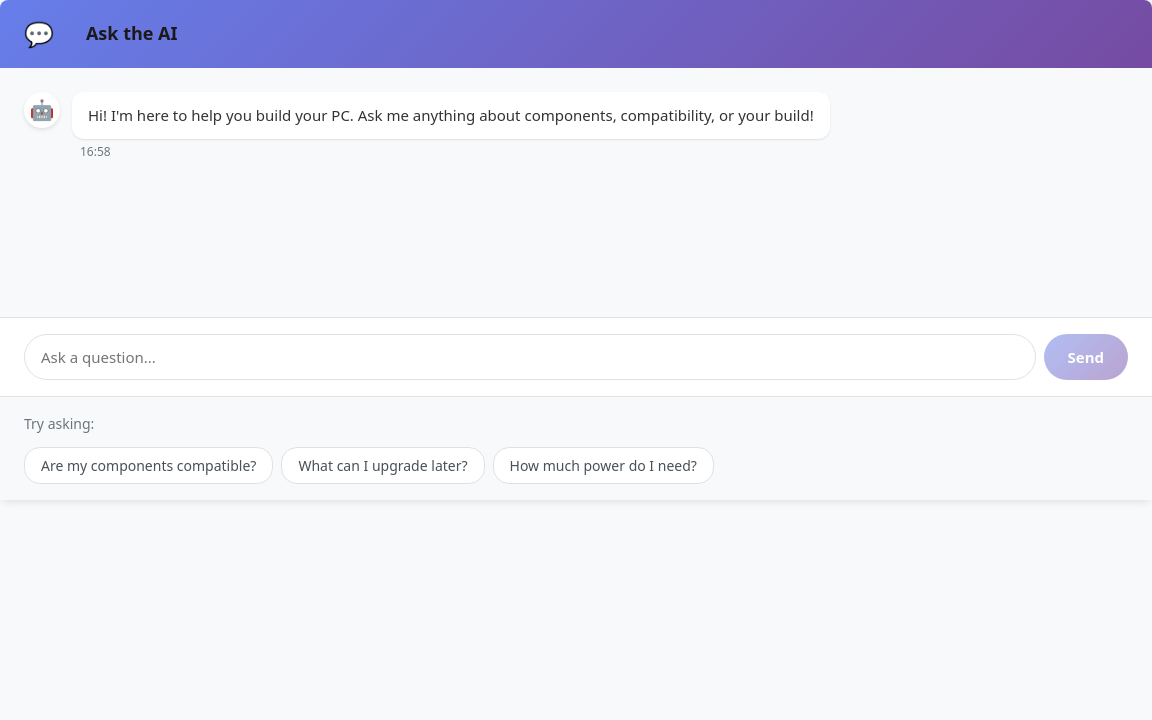
ConversationalChat › handles user query submission
The image size is (1152, 720).
Type "Test query" into the field with placeholder "Ask a question...".
click(530, 357); type("Test query")  # box [24,334,1036,380]
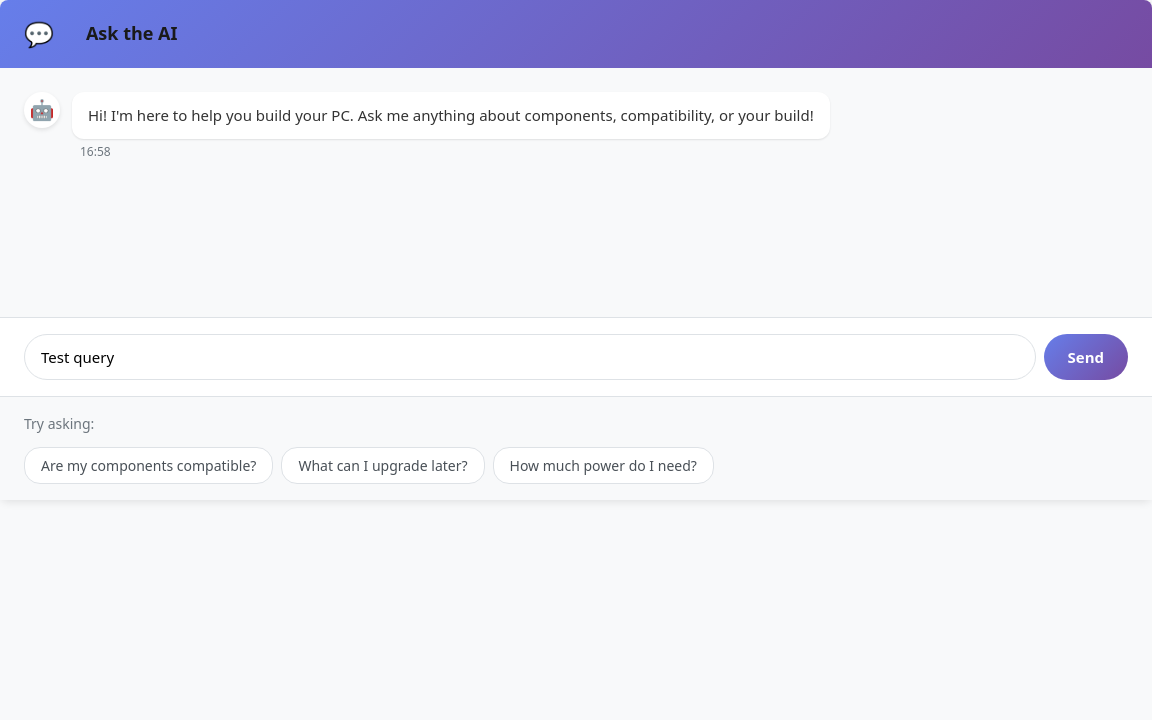
Click the button "Send".
click(1086, 357)  # box [1044,334,1128,380]
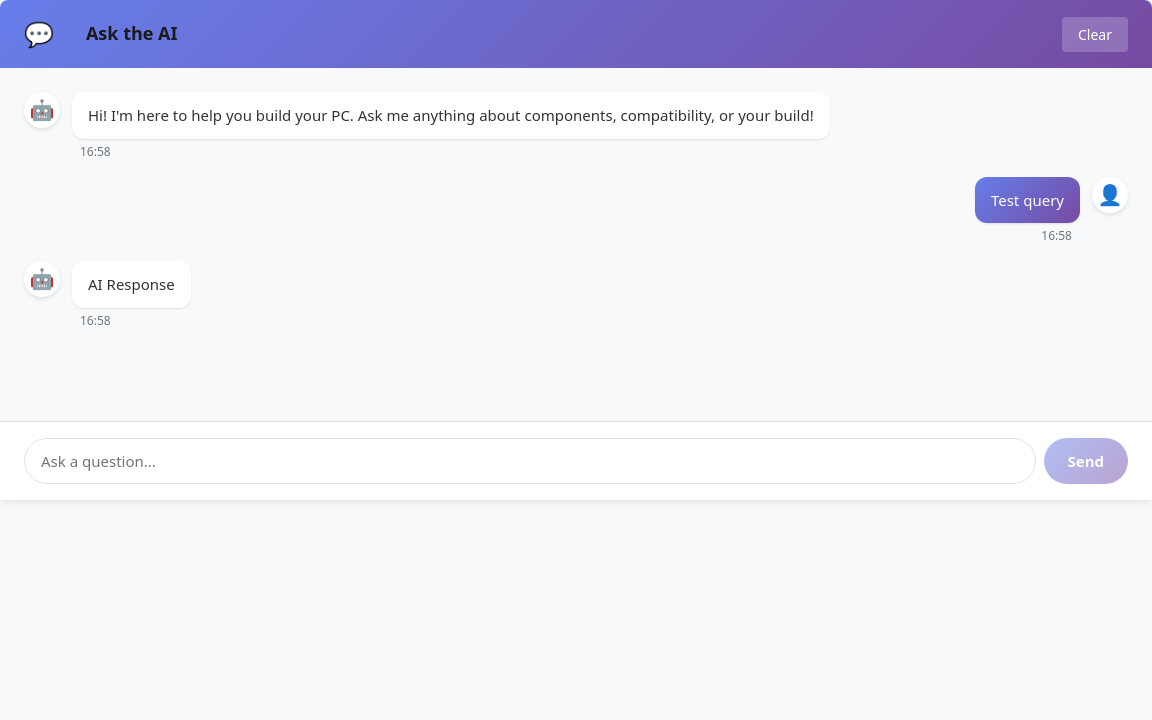
Expected: the text "Test query" is shown, [991,188,1064,211]
Expected: the text "AI Response" is shown, [88,273,175,296]
